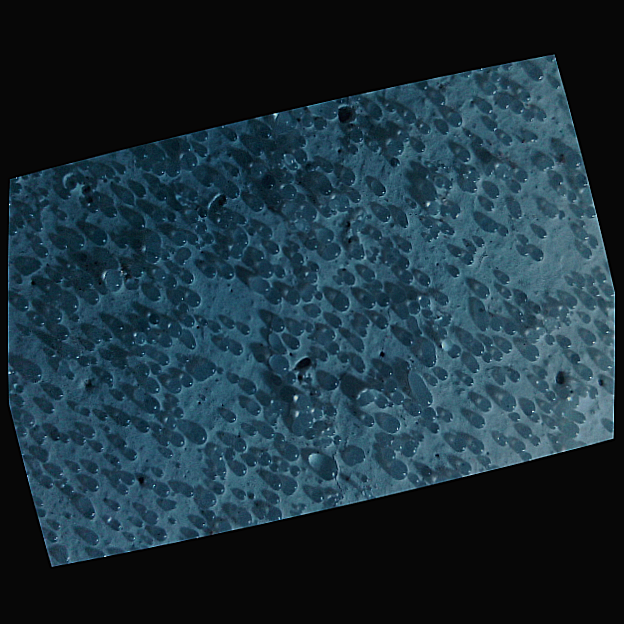GrassBeadSeg: (48, 102, 526, 534), (17, 121, 499, 480), (147, 141, 613, 493), (34, 165, 571, 442), (115, 111, 554, 448), (15, 171, 518, 460), (119, 152, 521, 486), (48, 237, 486, 542), (93, 189, 594, 453), (181, 155, 599, 469), (146, 245, 598, 524), (202, 111, 610, 415), (165, 126, 528, 453), (23, 142, 426, 426), (118, 145, 604, 378), (85, 253, 474, 544), (43, 145, 372, 488), (32, 169, 507, 399), (101, 175, 508, 439), (87, 68, 545, 297), (225, 84, 498, 466), (225, 130, 530, 458), (85, 150, 472, 407), (93, 184, 465, 441), (145, 113, 460, 413), (271, 174, 567, 482), (89, 312, 476, 545), (129, 131, 411, 443), (168, 167, 431, 499), (139, 94, 447, 377), (303, 206, 614, 476), (198, 207, 566, 431), (259, 158, 527, 465), (14, 174, 356, 407), (127, 354, 542, 540), (116, 114, 463, 336), (8, 267, 598, 397), (114, 201, 495, 401), (154, 325, 506, 541), (126, 223, 363, 542), (304, 95, 522, 440), (315, 124, 559, 429), (50, 275, 468, 452), (132, 265, 586, 422), (360, 91, 533, 483), (133, 211, 596, 356), (111, 114, 417, 331), (159, 169, 529, 347), (70, 201, 614, 321), (201, 106, 379, 472), (229, 248, 533, 461), (198, 248, 466, 477), (93, 235, 401, 433), (143, 231, 441, 434), (169, 117, 362, 429), (148, 162, 398, 394), (156, 369, 594, 497), (256, 121, 599, 283), (183, 354, 582, 492), (85, 144, 266, 440), (225, 253, 531, 422), (316, 204, 614, 376), (186, 322, 421, 538), (251, 162, 504, 360), (181, 266, 594, 387), (146, 249, 492, 393), (281, 185, 611, 329), (123, 372, 539, 484), (117, 237, 513, 353), (382, 140, 534, 438), (260, 294, 570, 439), (202, 233, 437, 420), (316, 138, 513, 361), (168, 243, 477, 383), (364, 135, 512, 426), (92, 354, 517, 452), (83, 255, 307, 435), (357, 113, 535, 338), (297, 85, 418, 409), (249, 199, 486, 356), (27, 227, 266, 381), (147, 243, 280, 515), (290, 322, 518, 476), (153, 268, 495, 369), (152, 186, 421, 314), (408, 231, 589, 417), (103, 270, 612, 335), (376, 183, 523, 408), (9, 183, 478, 253), (204, 236, 463, 358), (423, 234, 590, 423), (382, 91, 586, 245), (377, 208, 579, 363), (102, 211, 217, 480), (269, 269, 484, 407), (304, 207, 493, 362), (245, 342, 462, 475), (167, 227, 274, 496), (147, 288, 351, 428), (295, 205, 434, 406), (188, 302, 374, 444), (451, 206, 557, 445), (174, 375, 485, 454), (184, 107, 384, 224), (55, 327, 275, 432), (15, 342, 139, 526), (497, 174, 587, 424), (137, 316, 510, 376), (188, 285, 491, 355), (374, 294, 526, 433), (161, 328, 337, 446), (285, 79, 430, 222), (167, 378, 401, 465), (332, 302, 486, 428), (66, 209, 176, 380), (305, 298, 522, 383), (116, 368, 449, 422), (184, 322, 281, 505), (340, 224, 528, 313), (343, 224, 488, 337), (271, 260, 411, 373), (460, 340, 572, 474), (268, 183, 388, 304), (467, 274, 608, 373), (249, 402, 542, 447), (306, 306, 540, 362), (497, 166, 571, 326), (51, 387, 516, 410), (272, 317, 368, 426), (115, 342, 235, 426), (503, 111, 548, 327), (401, 360, 574, 416), (60, 480, 176, 563), (17, 312, 90, 436), (219, 338, 301, 446), (327, 405, 484, 460), (69, 176, 167, 264), (144, 420, 224, 527), (255, 230, 384, 295), (284, 172, 462, 219), (185, 216, 255, 334), (166, 262, 276, 337), (195, 361, 254, 496), (311, 396, 384, 502), (53, 455, 123, 562), (291, 102, 395, 169), (278, 111, 301, 411), (387, 106, 440, 235), (133, 130, 209, 218), (340, 241, 394, 364), (393, 392, 514, 446), (491, 61, 513, 352), (101, 372, 175, 458), (262, 175, 282, 491), (183, 142, 281, 204), (177, 241, 245, 324), (328, 438, 419, 500), (117, 456, 260, 495), (516, 281, 570, 384), (131, 218, 230, 273), (279, 102, 338, 194), (299, 435, 365, 513), (36, 174, 105, 248), (255, 202, 340, 260), (184, 144, 233, 244), (138, 420, 225, 474), (482, 56, 555, 119), (492, 79, 560, 140), (30, 317, 114, 364), (362, 278, 430, 336), (378, 365, 425, 446), (51, 408, 111, 471), (236, 235, 290, 302), (302, 378, 338, 478), (111, 483, 205, 521), (488, 182, 546, 243), (479, 203, 495, 412), (180, 131, 202, 283), (424, 170, 480, 229), (38, 461, 99, 513), (156, 433, 187, 531), (551, 81, 582, 177), (438, 151, 548, 177), (297, 129, 363, 172), (8, 214, 49, 283), (25, 307, 79, 357), (311, 194, 372, 238), (48, 236, 79, 322), (513, 158, 555, 219), (300, 246, 364, 286), (53, 233, 92, 297), (496, 97, 513, 236), (524, 248, 545, 360), (300, 372, 336, 437), (495, 303, 550, 345), (172, 234, 281, 255), (554, 279, 599, 328), (81, 148, 164, 174), (204, 233, 249, 279), (199, 438, 248, 480), (137, 150, 180, 197), (422, 164, 478, 200), (187, 293, 228, 341), (301, 115, 334, 172), (348, 248, 396, 287), (568, 191, 585, 301), (466, 103, 492, 173), (294, 205, 333, 250), (248, 397, 286, 443), (268, 395, 324, 425), (426, 227, 546, 241), (355, 218, 409, 247), (81, 159, 121, 198), (302, 271, 352, 300), (529, 330, 614, 346), (545, 190, 593, 218), (36, 507, 95, 529), (551, 400, 580, 444), (541, 300, 577, 334), (276, 437, 299, 489), (542, 409, 581, 438), (117, 335, 149, 369), (292, 243, 317, 284), (366, 270, 413, 291), (575, 174, 595, 215), (269, 152, 286, 200), (82, 478, 101, 518), (319, 449, 366, 465), (271, 480, 296, 510), (339, 358, 394, 371), (487, 209, 518, 232), (421, 170, 453, 189), (54, 262, 76, 287), (182, 265, 216, 278), (238, 512, 264, 526), (288, 292, 314, 304), (527, 334, 555, 345), (258, 509, 283, 521), (394, 444, 417, 456), (285, 446, 301, 461), (134, 331, 147, 349), (233, 462, 247, 476), (342, 171, 355, 185), (246, 381, 258, 395), (235, 438, 237, 440)
